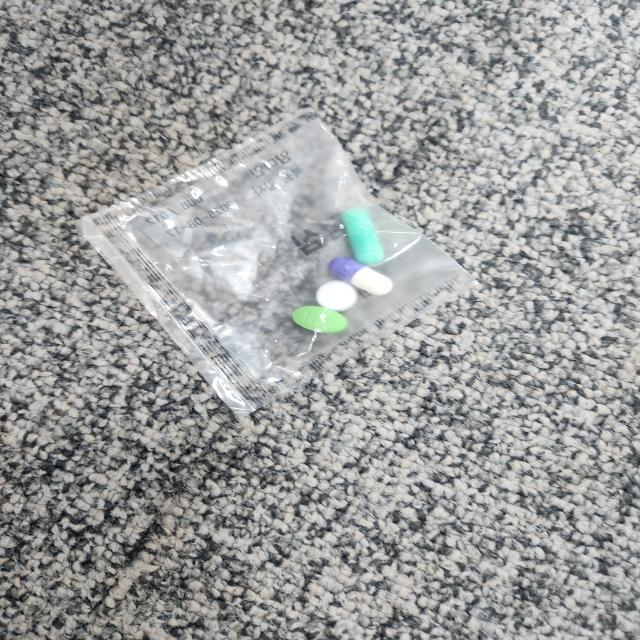러키펜정: (316, 280, 360, 312)
씨엠지세파클러캡슐: (332, 259, 393, 296)
에르도캡슐: (338, 206, 387, 273)
휴티렌정: (290, 305, 351, 337)
